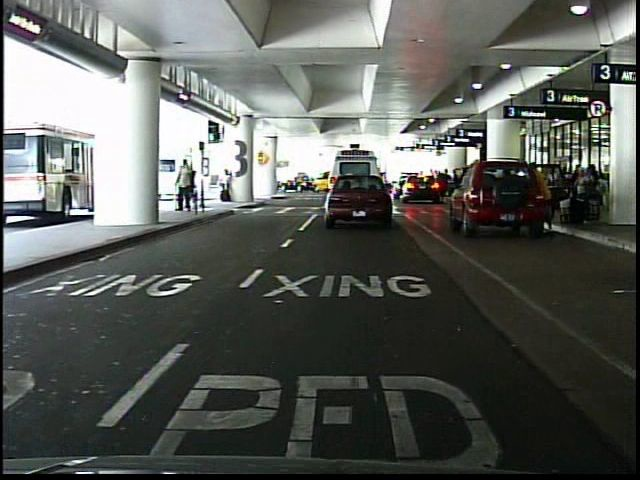person: (528, 158, 557, 230), (173, 157, 191, 214), (220, 167, 239, 205), (188, 162, 202, 210)
